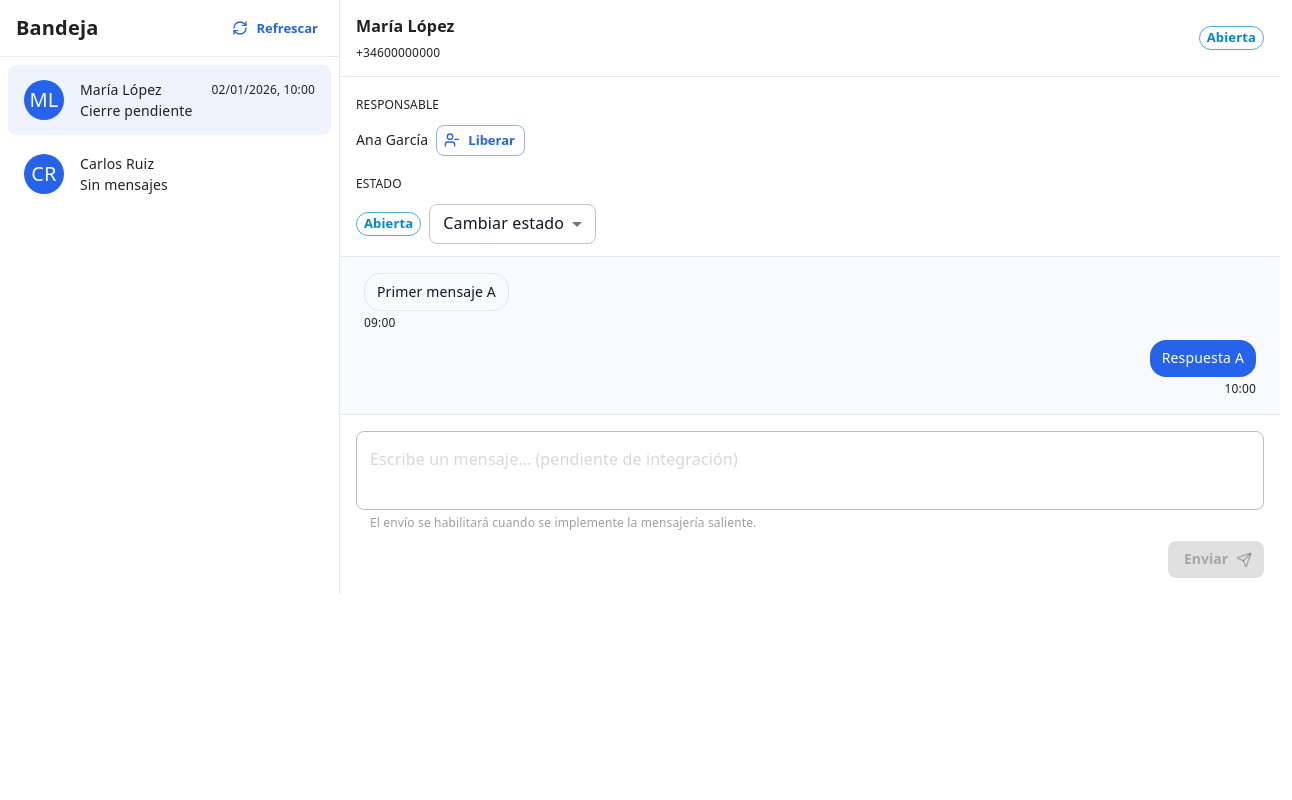
it: InboxPage · acciones T09 › muestra el conflicto devuelto por el backend sin alterar la vista
Expected: the text "Primer mensaje A" is shown, [377, 282, 496, 302]
What coordinates should you click on to do the following:
click the button "CR Carlos Ruiz Sin mensajes"
I would click on:
 (96, 174)
Its box is [24, 154, 168, 194].
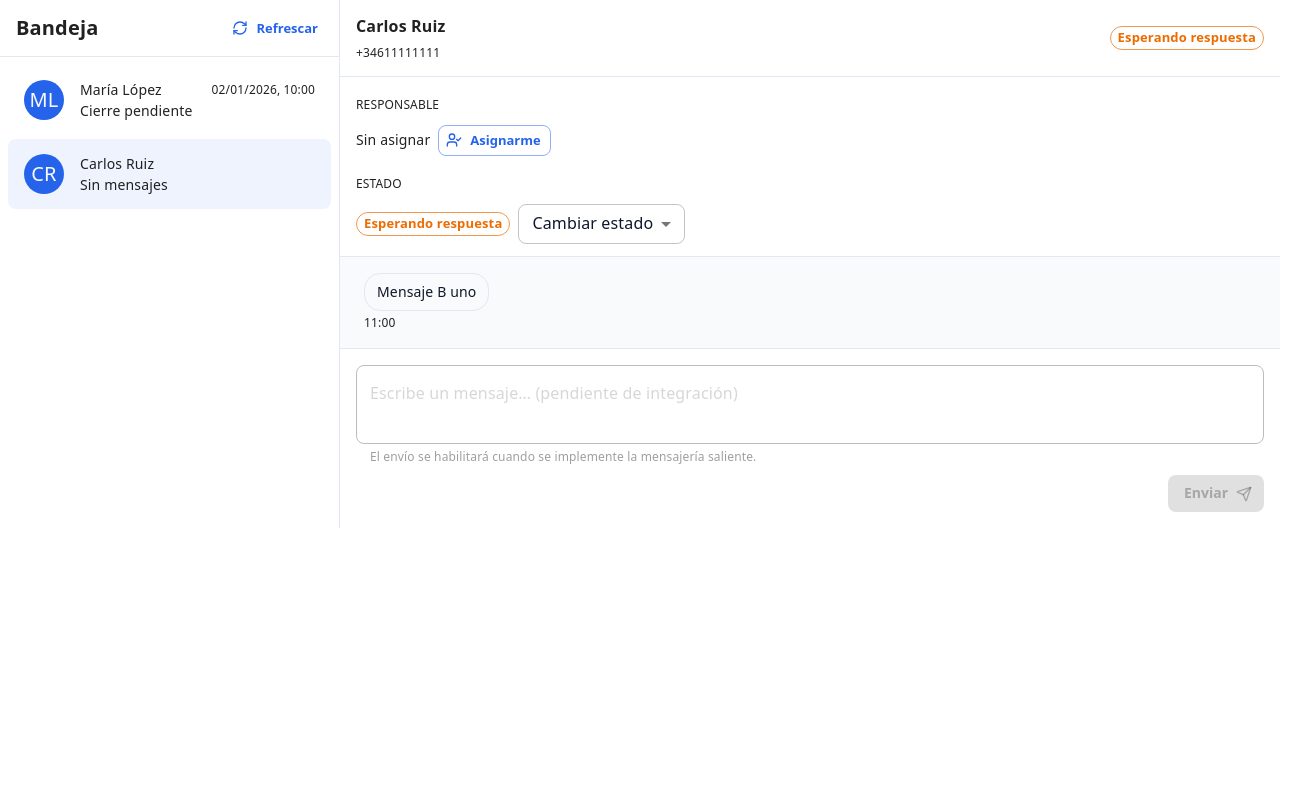
Result: the text "Mensaje B uno" is shown at [377, 282, 476, 302]
What coordinates should you click on to do the following:
click the button "Asignarme"
I would click on:
 (494, 140)
Its box is [438, 125, 551, 156].
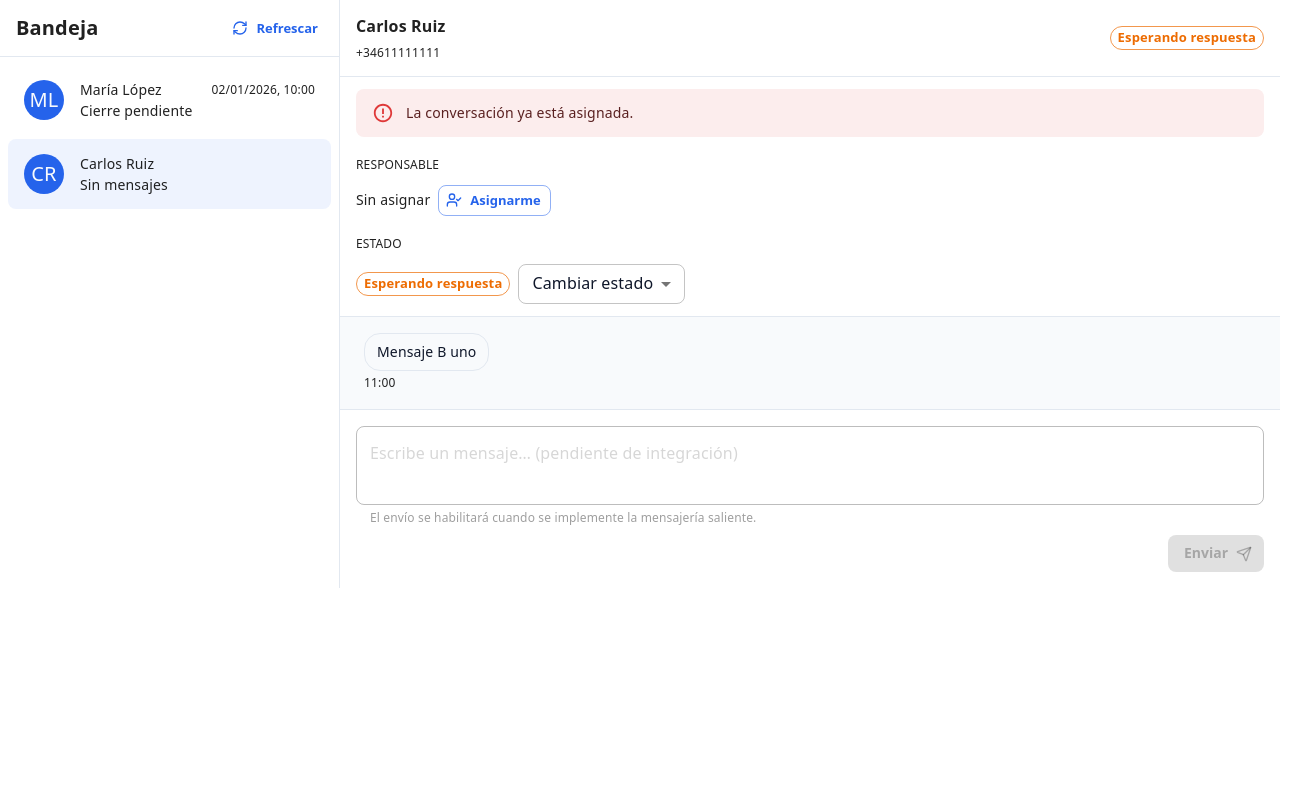
Result: the button "Asignarme" is shown at [438, 185, 551, 216]
Result: the text "La conversación ya está asignada." is shown at [406, 103, 633, 122]
